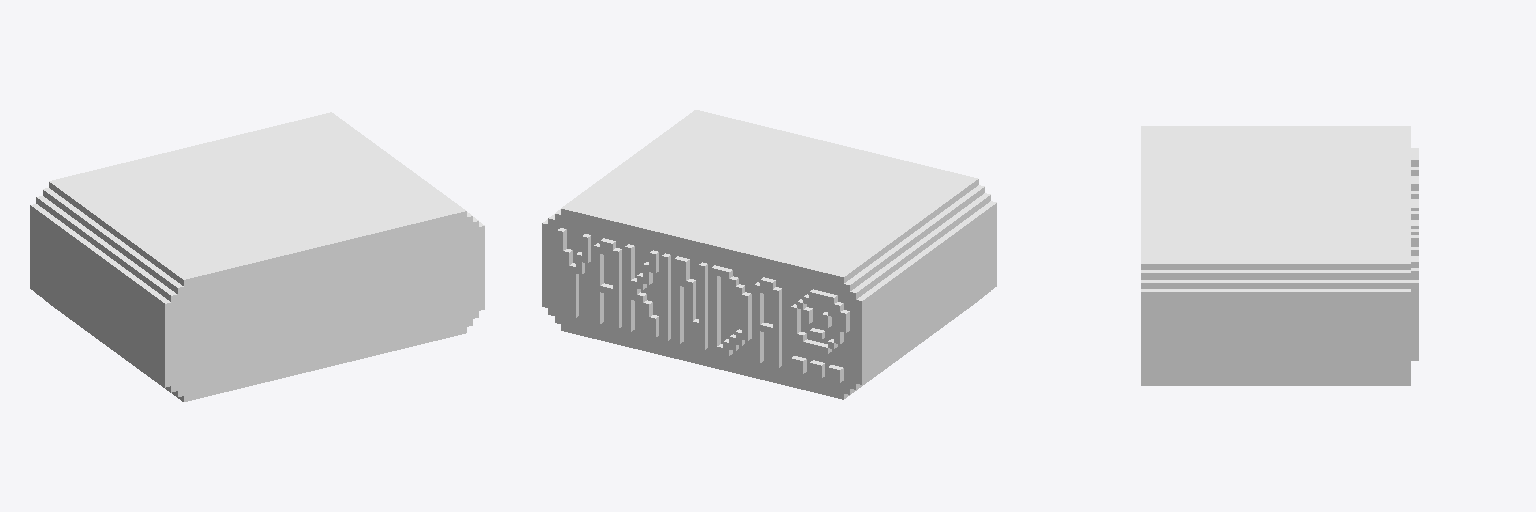
File: yakinda.obj
3 views of the same model, side by side, from view 1: azimuth 30°, elevation 25°; view 2: azimuth 150°, elevation 25°; view 3: azimuth 270°, elevation 25° (orthographic).
Visible parts, largest first — view 1: object 1; view 2: object 1; view 3: object 1.
Part boxes in pixels (left/top/right/bottom): object 1: left=30, top=112, right=484, bottom=401; object 1: left=542, top=110, right=996, bottom=399; object 1: left=1141, top=126, right=1418, bottom=385.
Bounding box in the file's own units: 5.2 × 1.9 × 3.9.